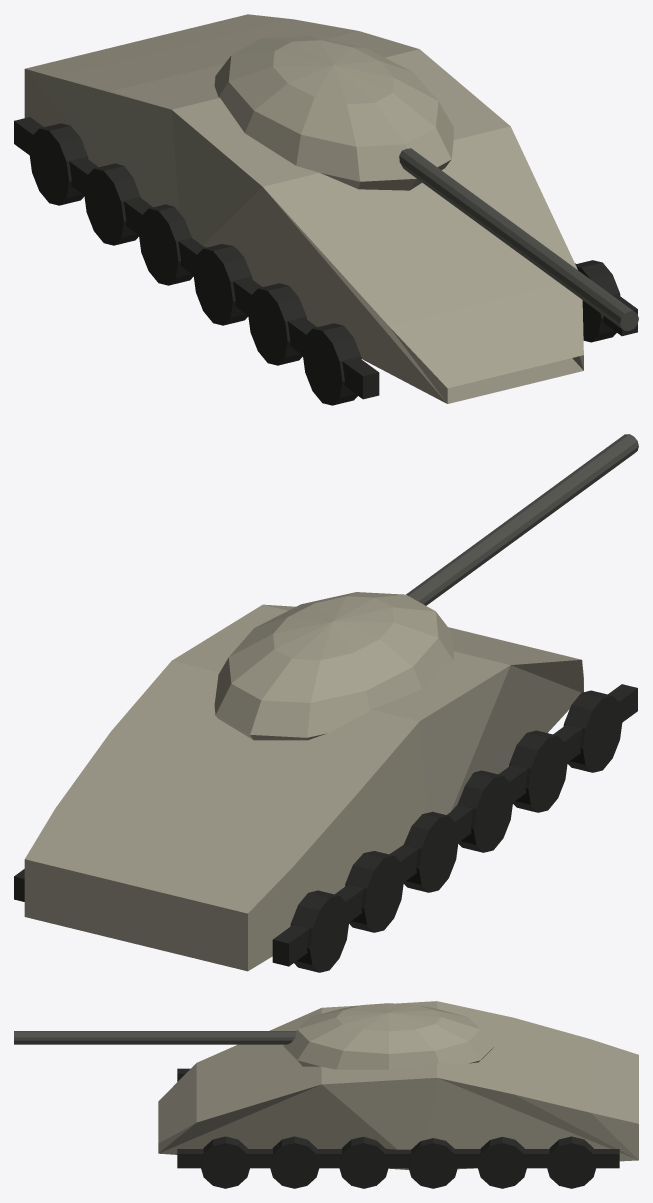
The picture shows the model from 3 angles, top to bottom: view 1: azimuth 30°, elevation 25°; view 2: azimuth 150°, elevation 25°; view 3: azimuth 270°, elevation 25°; orthographic projection. The views are drawn at different scales.
Visible parts, largest first — view 1: Hull, Turret, Gun, Track_L, Wheel_L_01, Wheel_L_06, Wheel_L_03, Wheel_L_02, Wheel_L_05, Wheel_L_04, Wheel_R_01; view 2: Hull, Turret, Gun, Track_L, Wheel_L_06, Wheel_L_01, Wheel_L_02, Wheel_L_05, Wheel_L_03, Wheel_L_04; view 3: Hull, Turret, Gun, Track_R, Wheel_R_06, Wheel_R_01, Wheel_R_02, Wheel_R_05, Wheel_R_03, Wheel_R_04.
Boxes of the visible parts, box(x1,y1,x2,y2) form: Hull: box(24, 14, 583, 403); Turret: box(214, 36, 453, 190); Gun: box(399, 148, 638, 330); Track_L: box(14, 117, 379, 399); Wheel_L_01: box(302, 323, 361, 405); Wheel_L_06: box(29, 123, 88, 205); Wheel_L_03: box(193, 244, 252, 325); Wheel_L_02: box(248, 283, 306, 365); Wheel_L_05: box(84, 163, 140, 245); Wheel_L_04: box(138, 204, 193, 285); Wheel_R_01: box(575, 260, 620, 342); Hull: box(24, 604, 583, 971); Turret: box(214, 592, 453, 740); Gun: box(406, 434, 638, 605); Track_L: box(272, 684, 637, 966); Wheel_L_06: box(290, 890, 349, 972); Wheel_L_01: box(563, 690, 622, 772); Wheel_L_02: box(509, 730, 567, 812); Wheel_L_05: box(345, 851, 404, 932); Wheel_L_03: box(457, 770, 513, 852); Wheel_L_04: box(403, 811, 458, 892); Hull: box(158, 1001, 638, 1169); Turret: box(283, 1003, 494, 1069); Gun: box(14, 1031, 296, 1044); Track_R: box(177, 1149, 619, 1168); Wheel_R_06: box(546, 1136, 596, 1188); Wheel_R_01: box(200, 1136, 250, 1188); Wheel_R_02: box(269, 1136, 319, 1188); Wheel_R_05: box(477, 1137, 527, 1188); Wheel_R_03: box(338, 1137, 389, 1188); Wheel_R_04: box(408, 1138, 458, 1188).
Bounding box in the file's own units: 3 × 2.14 × 9.13.
